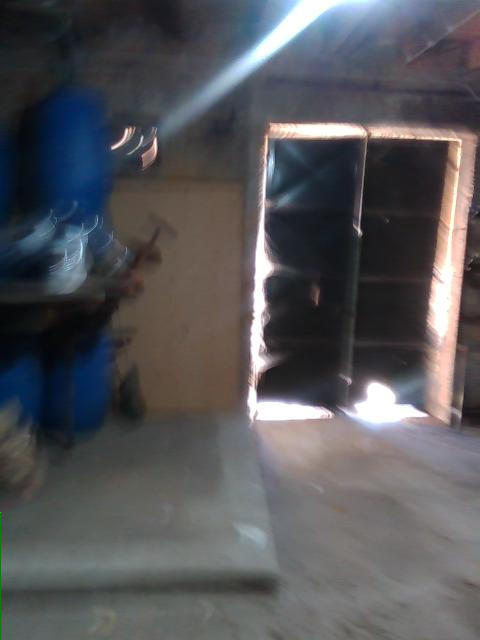door: (242, 122, 477, 423)
